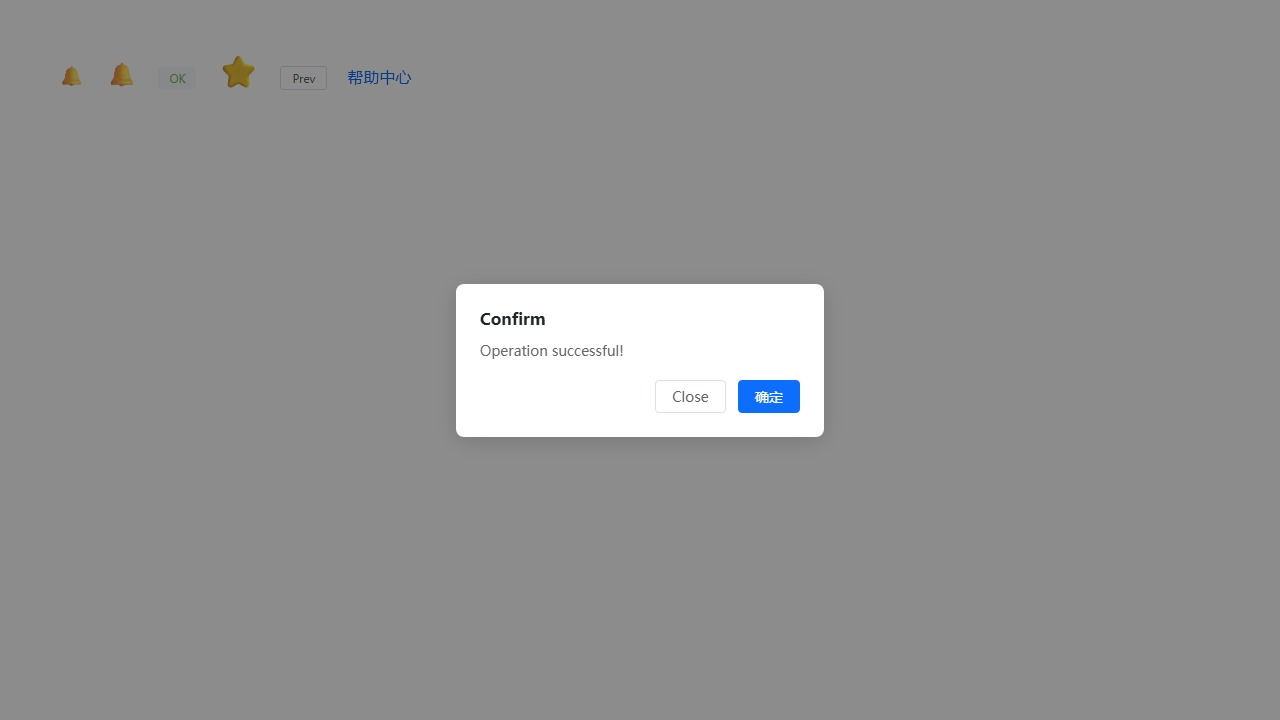button: (655, 380, 726, 412), (738, 380, 800, 412), (280, 66, 327, 90), (158, 67, 196, 89)
icon: (216, 54, 260, 86), (105, 61, 138, 85), (58, 65, 85, 85)
link: (347, 66, 411, 87)
modal: (0, 0, 1280, 720)
